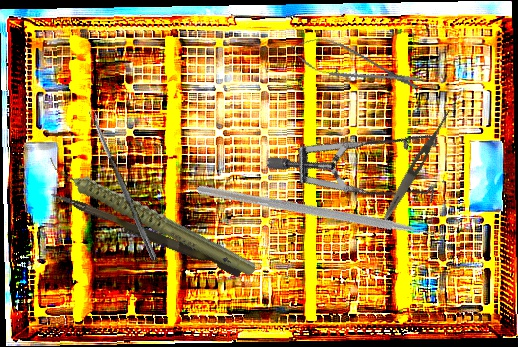Chopper: (196, 110, 452, 332)
Dressing Forceps: (380, 104, 455, 223)
Handpiece: (44, 115, 260, 315)
Micro Scissor: (285, 29, 430, 103)
Pusher: (47, 190, 244, 278)
Speculum: (262, 60, 467, 256)
Surgical Spoon: (88, 109, 159, 262)
